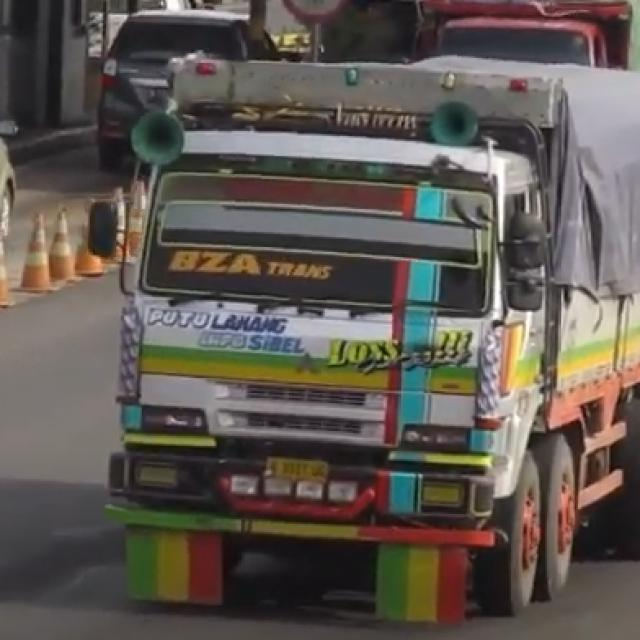Truck: (108, 42, 640, 628)
